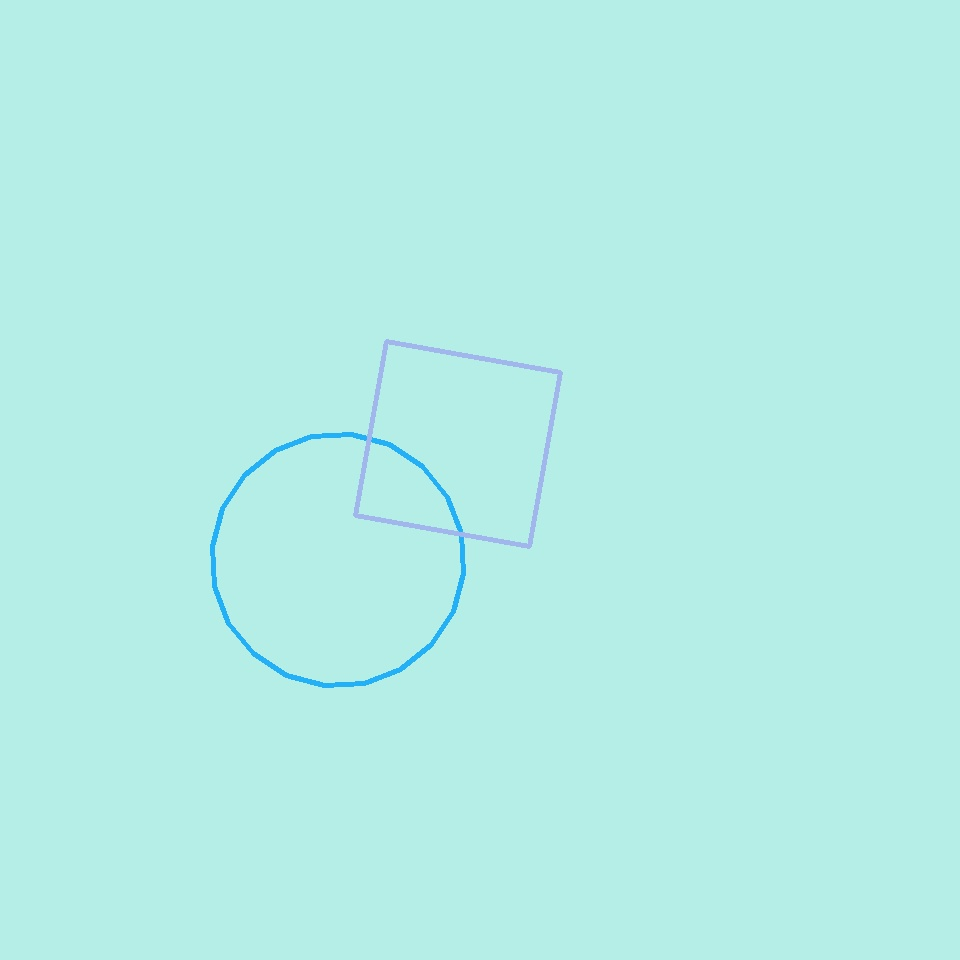square: (356, 342, 560, 546)
triangle: (213, 434, 464, 686)
